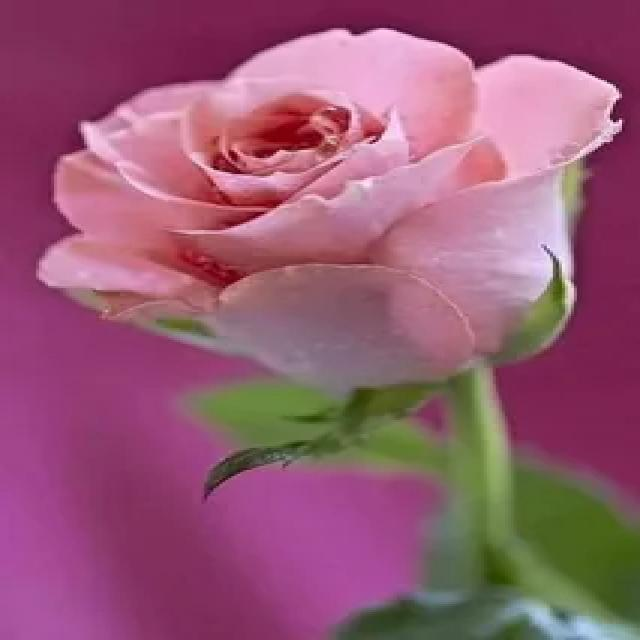rose: (0, 13, 640, 401)
